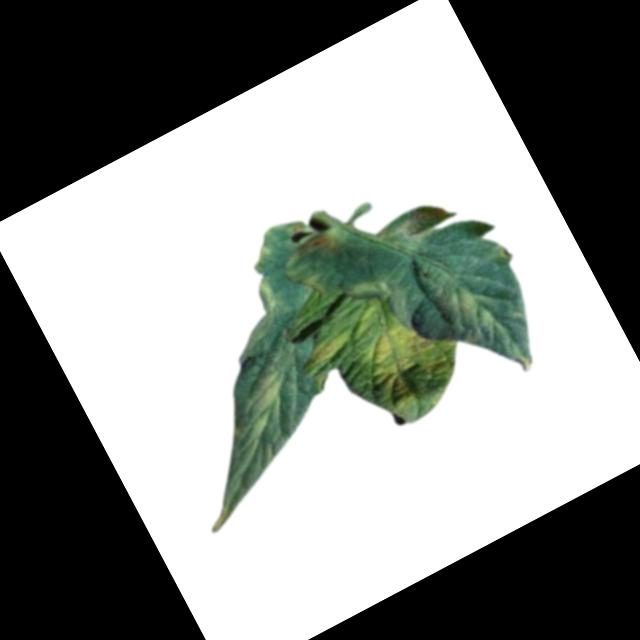Leaf_Mold: (352, 302, 472, 421), (225, 363, 303, 443), (432, 274, 509, 355), (386, 197, 457, 258), (292, 224, 345, 268), (306, 325, 357, 369)
